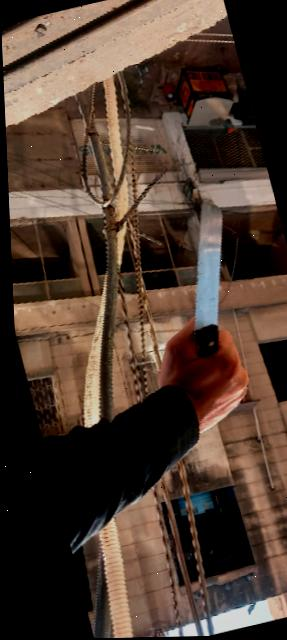long knife: (151, 192, 267, 403)
